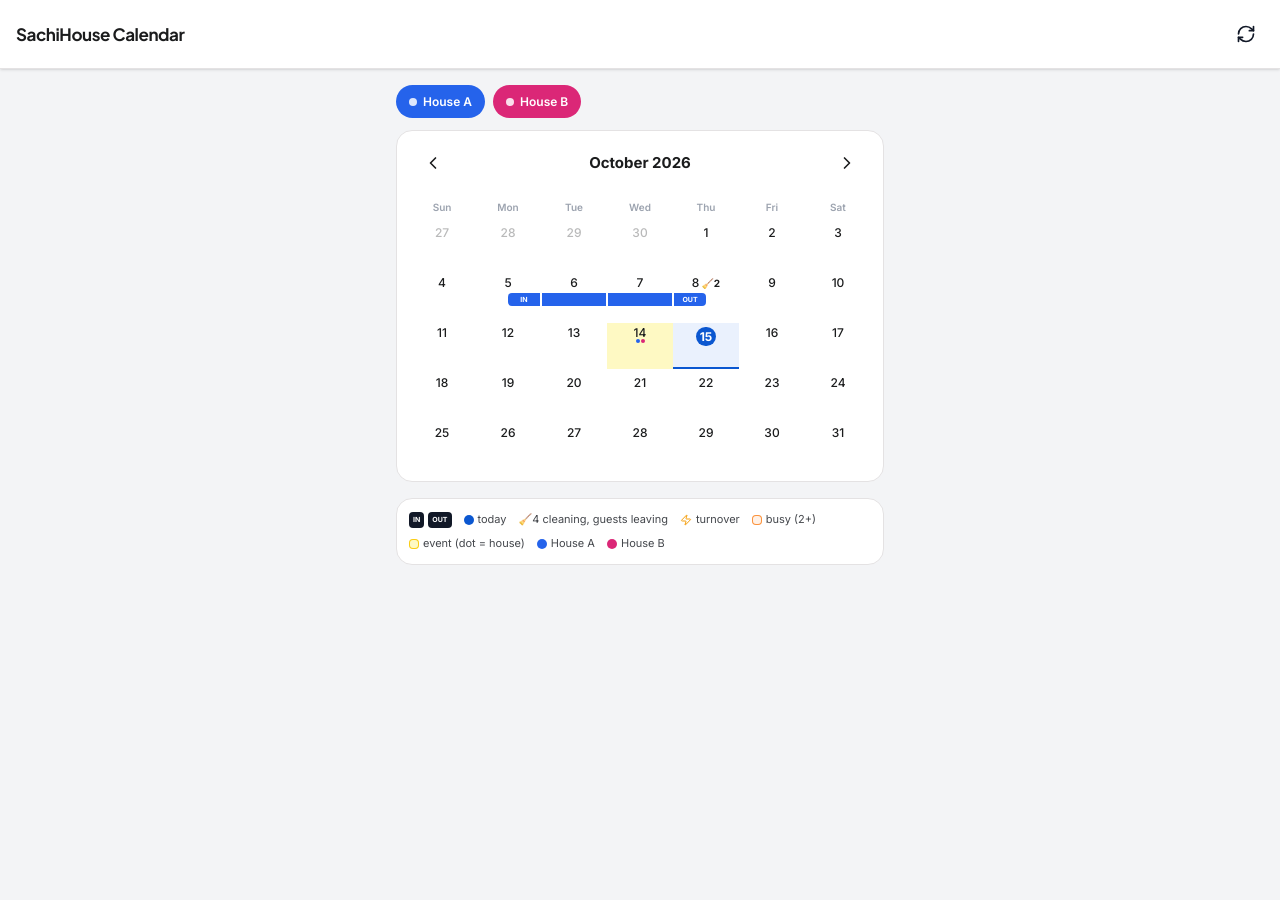
CleaningCalendarPage — events are display only › 27b: filtering a house hides its event in the sheet but keeps the other house
Step 1. Click the button "House B" → (537, 102), box [493,85,581,118]
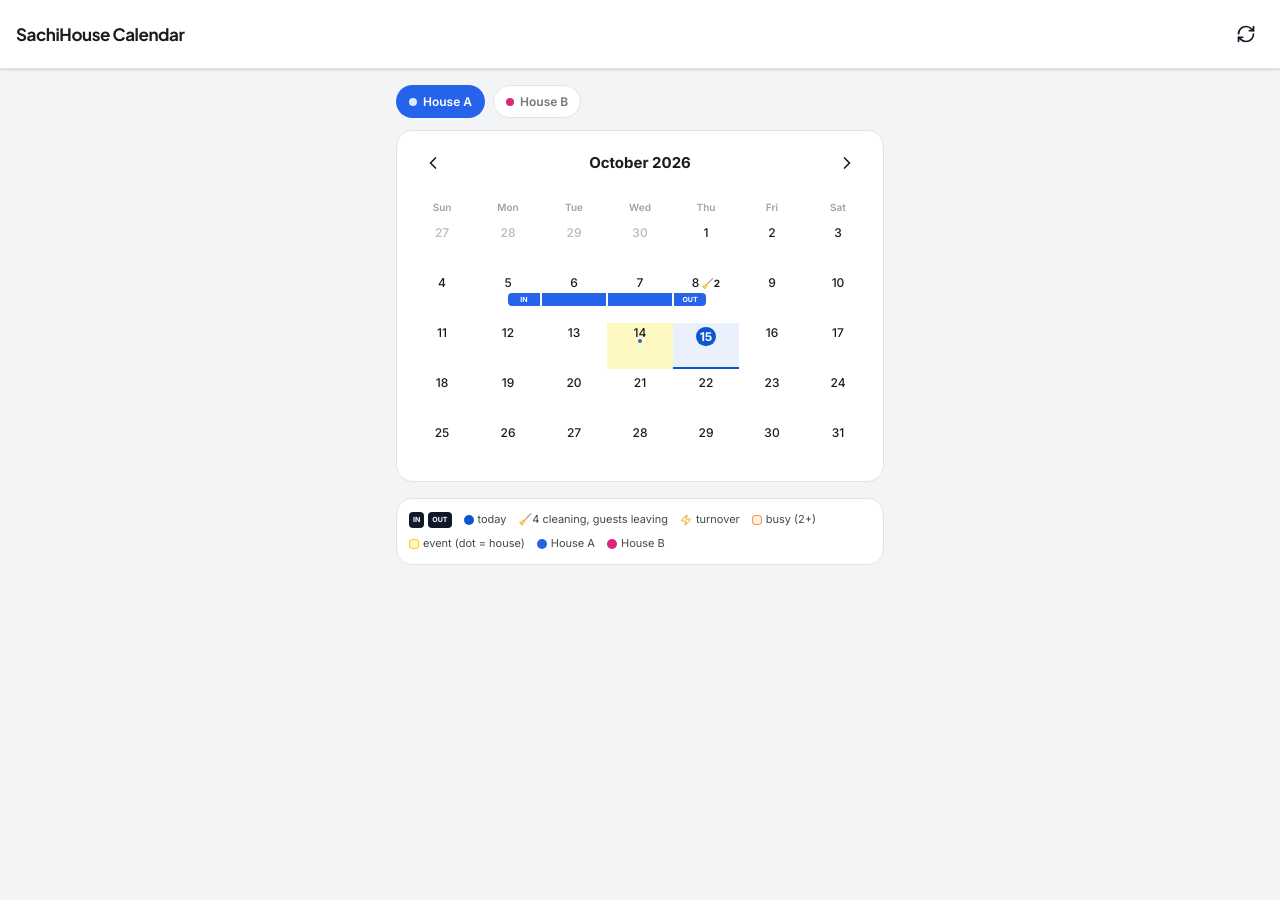
Step 2. Click the button "14" → (640, 346), box [607,323,673,369]
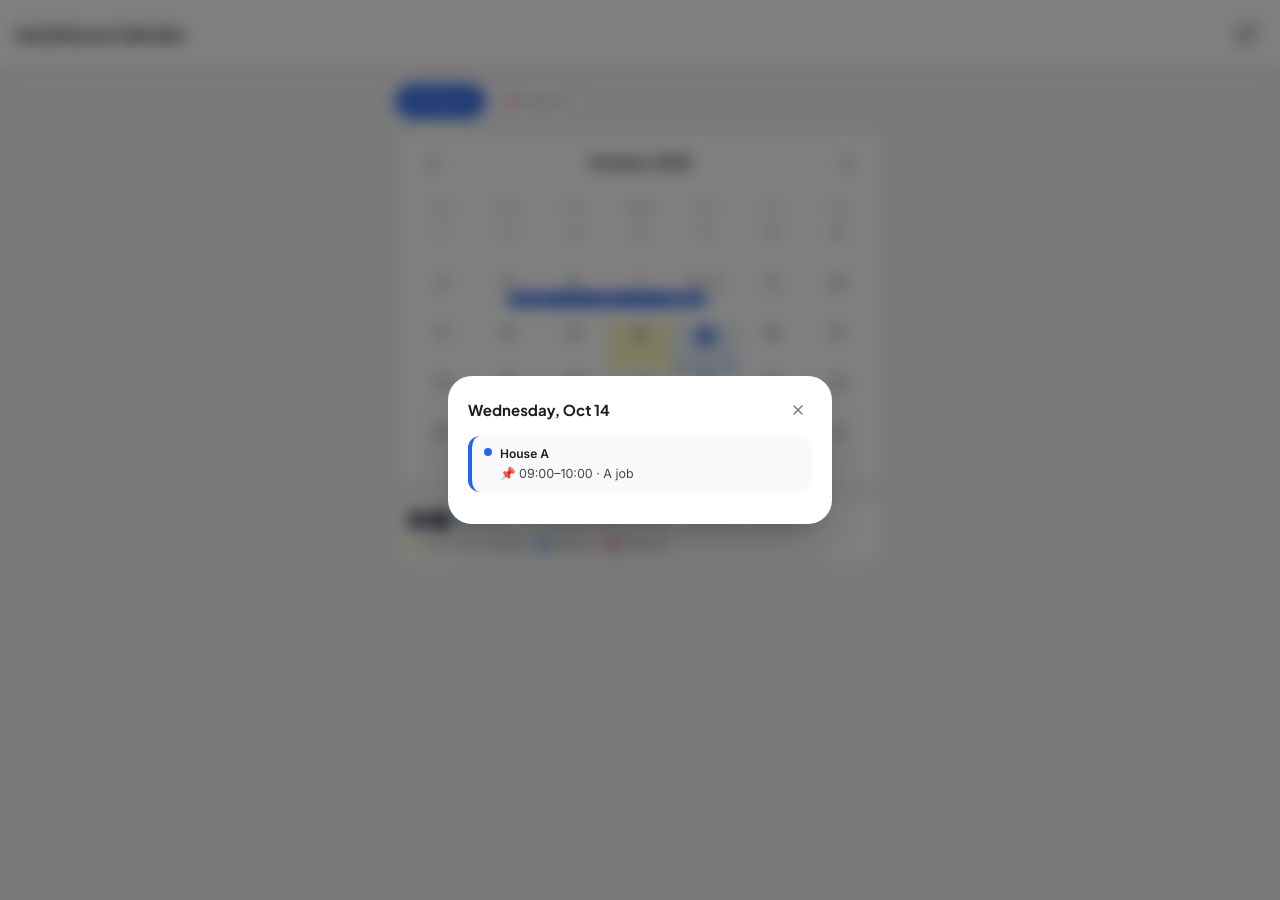
Expected: the text "📌 09:00–10:00 · A job" is shown, [500,466,634,481]
